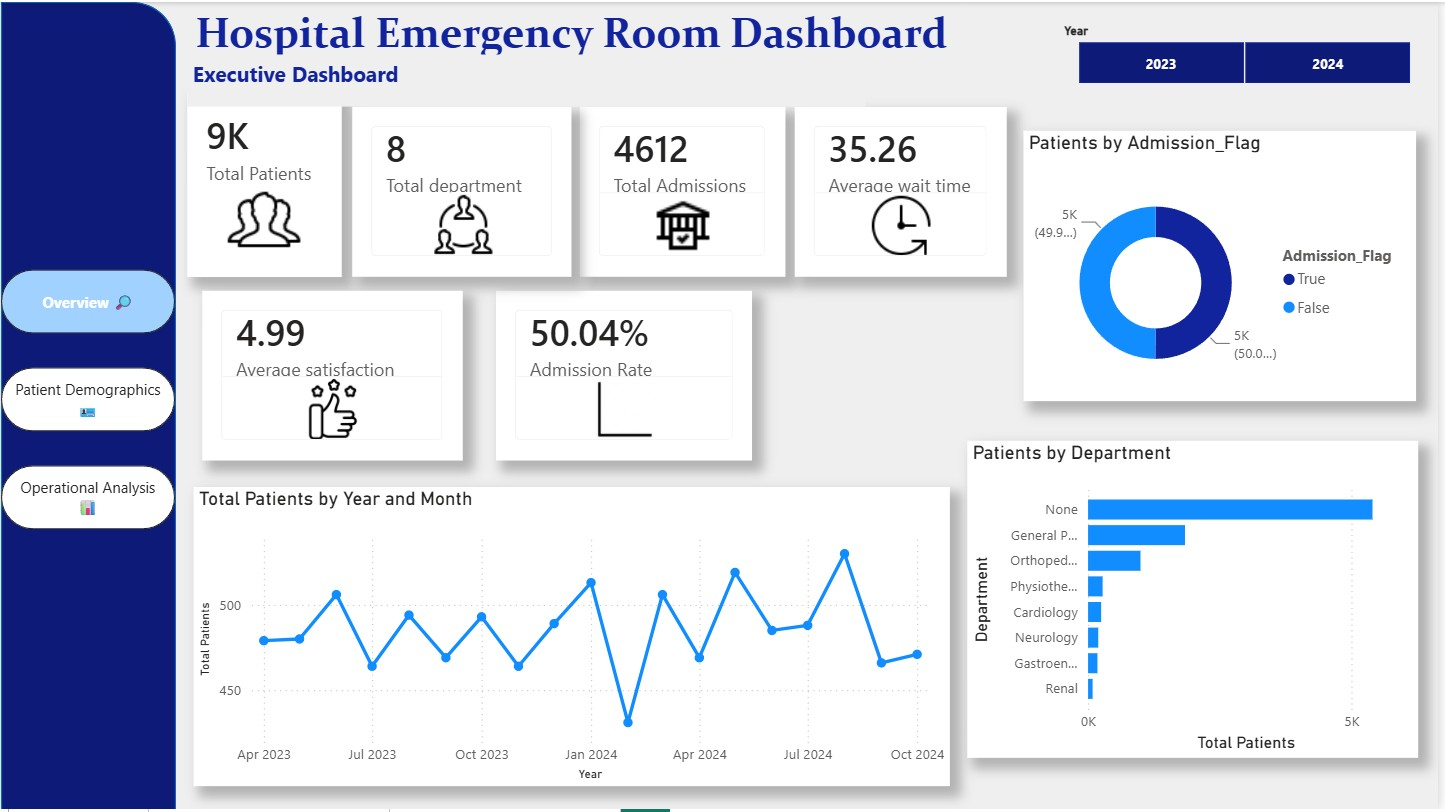

This screenshot's page, from the dashboard's own definition file:
{"tool":"powerbi","page":{"name":"Overview 🔎","canvas":[1280,720],"ordinal":0},"visuals":[{"type":"shape","box":[0,0,155.8,720.2],"z":0,"group":"g1"},{"type":"cardVisual","fields":{"Data":["HospitalER_cleaned.Total Patients"]},"box":[165.6,79.8,137.4,164.4],"z":0},{"type":"cardVisual","fields":{"Data":["HospitalER_cleaned.Total Admissions"]},"box":[515.3,93.3,182.8,150.9],"z":1000},{"type":"pageNavigator","box":[0,238.6,155.7,231.4],"z":1000,"group":"g1"},{"type":"cardVisual","fields":{"Data":["HospitalER_cleaned.Admission Rate"]},"box":[440.5,257.7,228.2,150.9],"z":2000},{"type":"cardVisual","fields":{"Data":["HospitalER_cleaned.Total department"]},"box":[312.9,93.3,195.1,150.9],"z":3000},{"type":"cardVisual","fields":{"Data":["HospitalER_cleaned.Average wait time"]},"box":[706.8,93.3,189,150.9],"z":4000},{"type":"cardVisual","fields":{"Data":["HospitalER_cleaned.Average satisfaction"]},"box":[179.1,257.7,231.9,150.9],"z":5000},{"type":"lineChart","fields":{"Y":["HospitalER_cleaned.Total Patients"],"Category":["HospitalER_cleaned.Admission_Date.Variation.Date Hierarchy.Year","HospitalER_cleaned.Admission_Date.Variation.Date Hierarchy.Month"]},"box":[171.8,431.9,673.6,266.3],"z":6000},{"type":"slicer","fields":{"Values":["HospitalER_cleaned.Admission_Date.Variation.Date Hierarchy.Year"]},"box":[933.7,14.7,345.1,64.8],"z":7000},{"type":"donutChart","title":"Patients by Admission_Flag","fields":{"Category":["HospitalER_cleaned.Admission_Flag"],"Y":["HospitalER_cleaned.Total Patients"]},"box":[910.4,114.1,349.7,240.5],"z":8000},{"type":"textbox","box":[155.8,0,704.3,62.6],"z":9000},{"type":"clusteredBarChart","title":"Patients by Department","fields":{"Category":["HospitalER_cleaned.Department"],"Y":["HospitalER_cleaned.Total Patients"]},"box":[860.1,390.2,401.2,282.2],"z":10000},{"type":"textbox","box":[165.6,46.6,603.7,46.6],"z":11000},{"type":"group","id":"g1","title":"Group 1","box":[0,0,155.7,720],"z":12000}]}

Visuals, with their boxes in screenshot pixels (x1, y1, x2, y2), scaled from the page's 1280x720 canvas onto the 1445x812 screenshot:
shape: left=0, top=0, right=176, bottom=811
cardVisual - HospitalER_cleaned.Total Patients: left=187, top=90, right=342, bottom=275
cardVisual - HospitalER_cleaned.Total Admissions: left=582, top=105, right=788, bottom=275
pageNavigator: left=0, top=269, right=176, bottom=530
cardVisual - HospitalER_cleaned.Admission Rate: left=497, top=291, right=755, bottom=461
cardVisual - HospitalER_cleaned.Total department: left=353, top=105, right=573, bottom=275
cardVisual - HospitalER_cleaned.Average wait time: left=798, top=105, right=1011, bottom=275
cardVisual - HospitalER_cleaned.Average satisfaction: left=202, top=291, right=464, bottom=461
lineChart - HospitalER_cleaned.Total Patients x HospitalER_cleaned.Admission_Date.Variation.Date Hierarchy.Year: left=194, top=487, right=954, bottom=787
slicer - HospitalER_cleaned.Admission_Date.Variation.Date Hierarchy.Year: left=1054, top=17, right=1444, bottom=90
"Patients by Admission_Flag" donutChart: left=1028, top=129, right=1423, bottom=400
textbox: left=176, top=0, right=971, bottom=71
"Patients by Department" clusteredBarChart: left=971, top=440, right=1424, bottom=758
textbox: left=187, top=53, right=868, bottom=105
"Group 1" group: left=0, top=0, right=176, bottom=811
